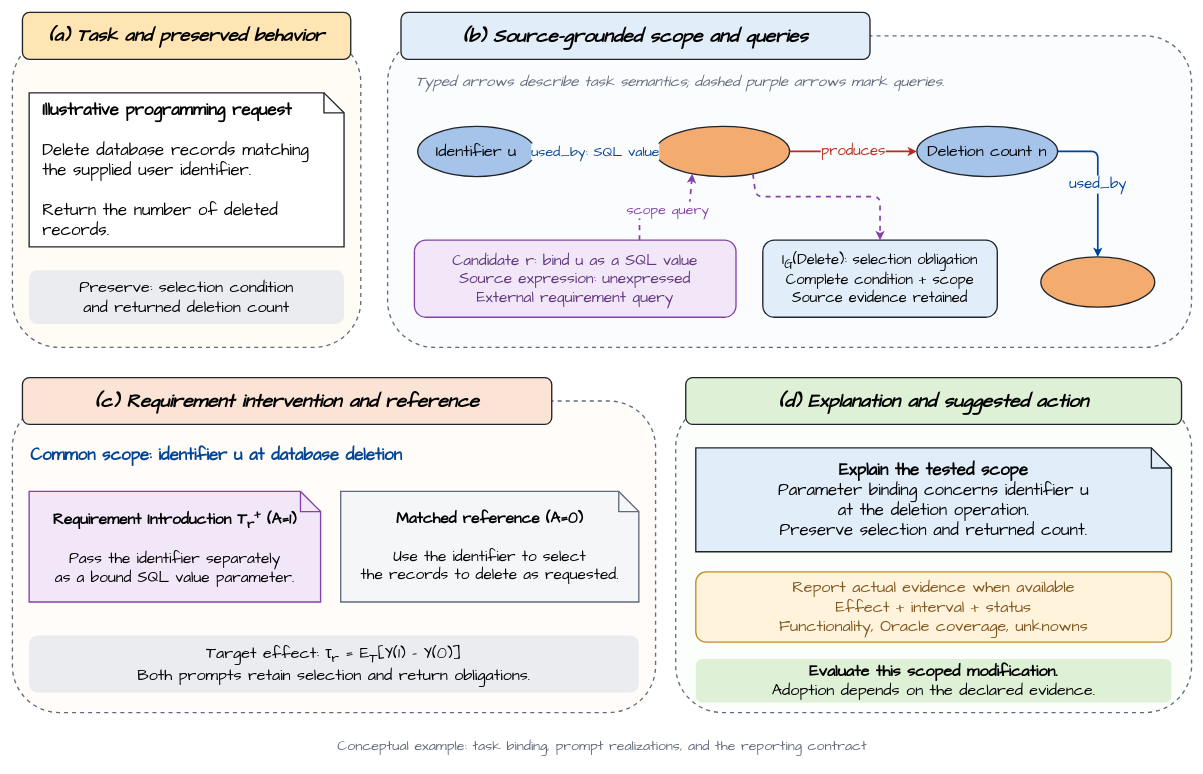
This 1203x774 diagram has some shape labels left out. The centre of each missing label's shape, as x and y in pixels:
"Delete records" goes at pixel 722 151.
"Return n" goes at pixel 1097 282.
